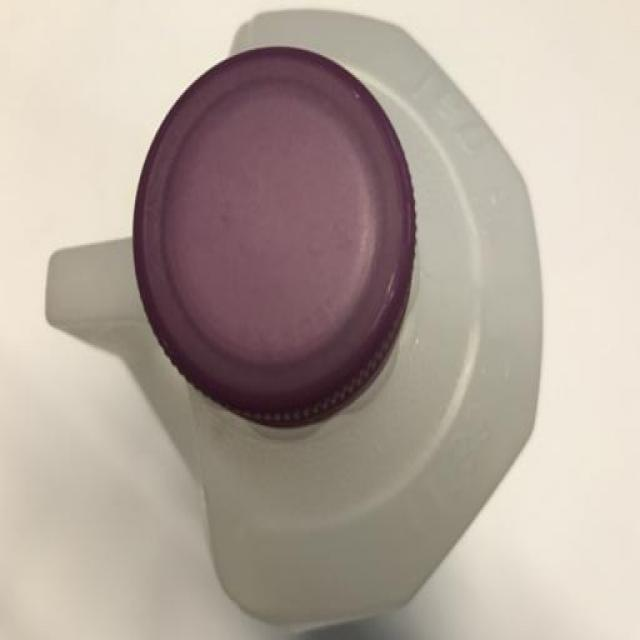plastic_bottle: (20, 19, 591, 640)
